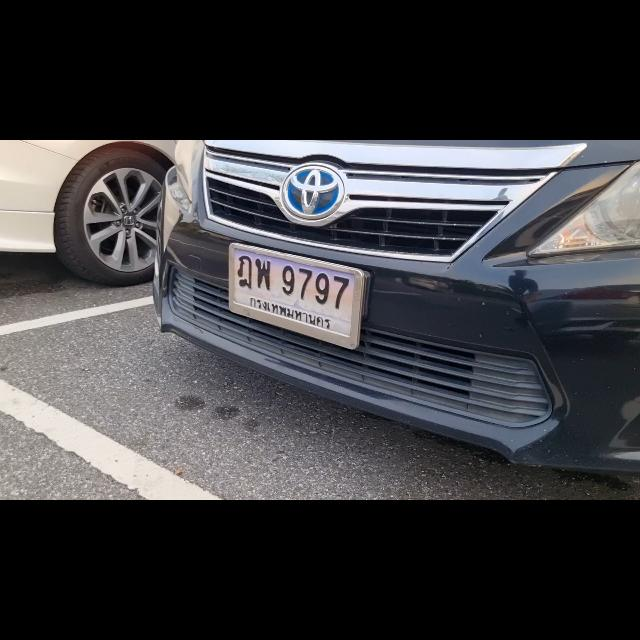licenseplate: (228, 242, 364, 350)
